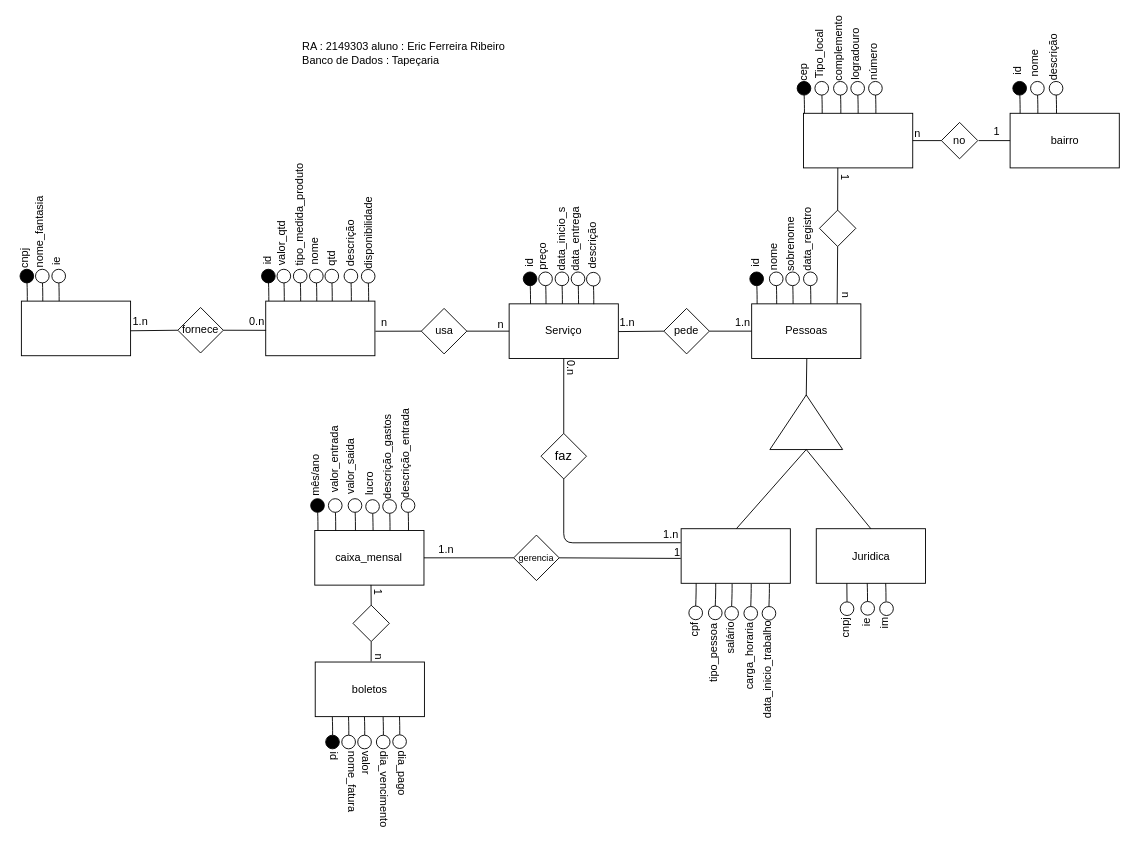
Image size: 1135x844. Some labels were removed from this diagram. The centre of each missing label's shape, as x and y in pixels:
endereço: point 858,140
Fisica: point 735,555
fornecedor: point 75,328
mora: point 837,228
possui: point 370,623
Produto: point 320,328
